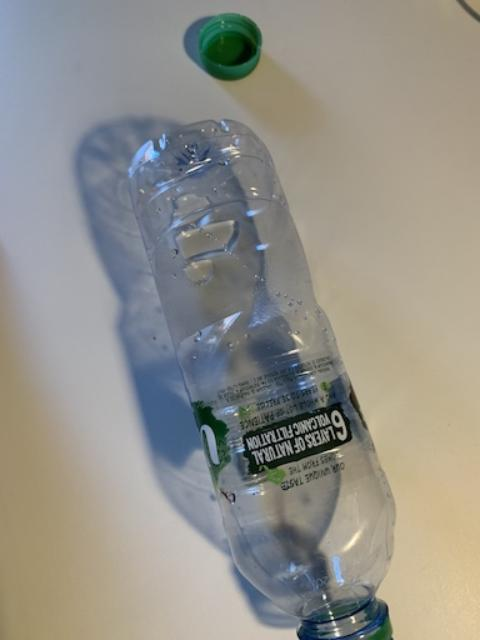plastic: (129, 121, 394, 639), (185, 12, 261, 79)
